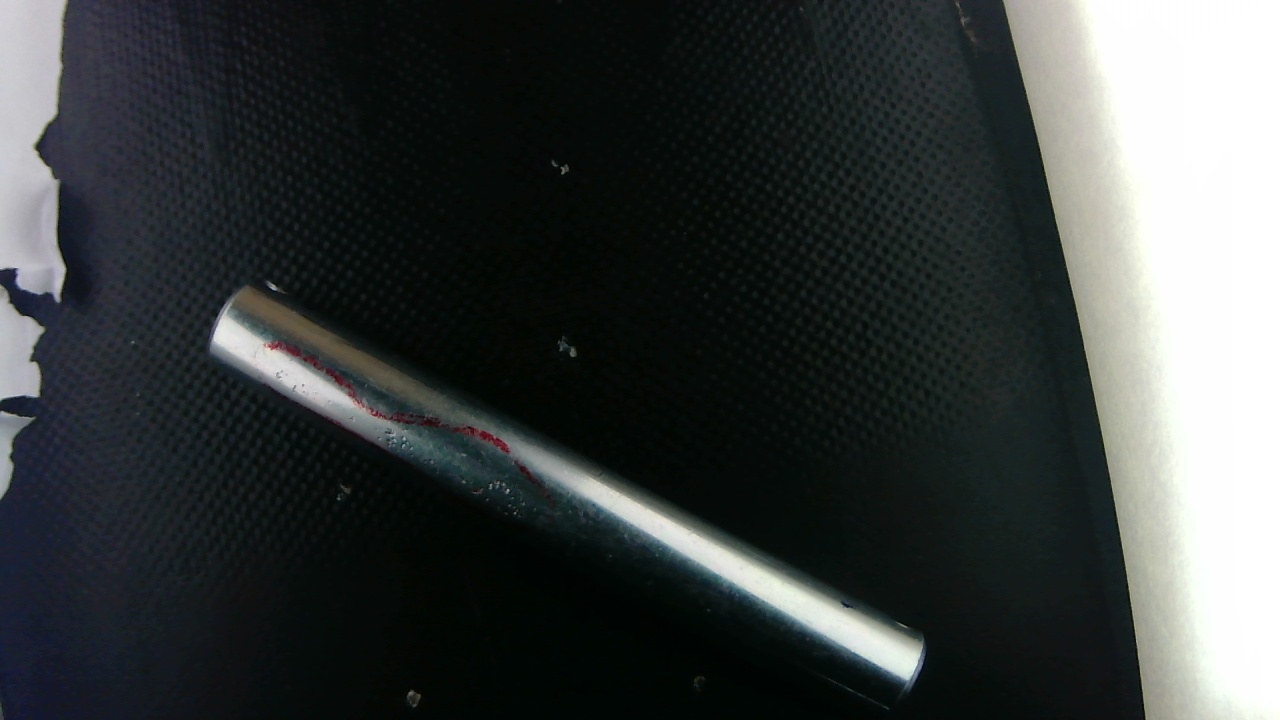pitmark_pin: (363, 410, 534, 521)
